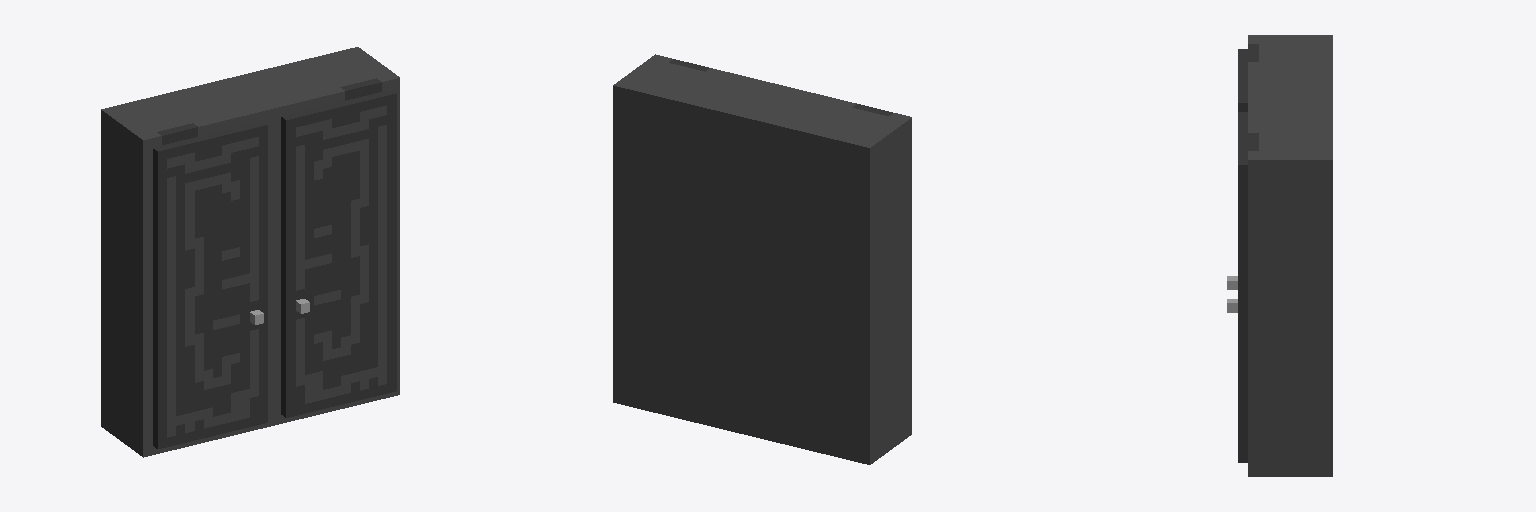
3 renders of one model, left to right at view 1: azimuth 30°, elevation 25°; view 2: azimuth 150°, elevation 25°; view 3: azimuth 270°, elevation 25°, orthographic.
Visible parts, largest first — view 1: object 1; view 2: object 1; view 3: object 1.
Boxes of the visible parts, <box> form: object 1: <box>101,47,399,457</box>; object 1: <box>613,54,911,464</box>; object 1: <box>1227,35,1332,476</box>.
Bounding box in the file's own units: 2.8 × 3.3 × 1.
Materials: 1 (1 with a texture image).